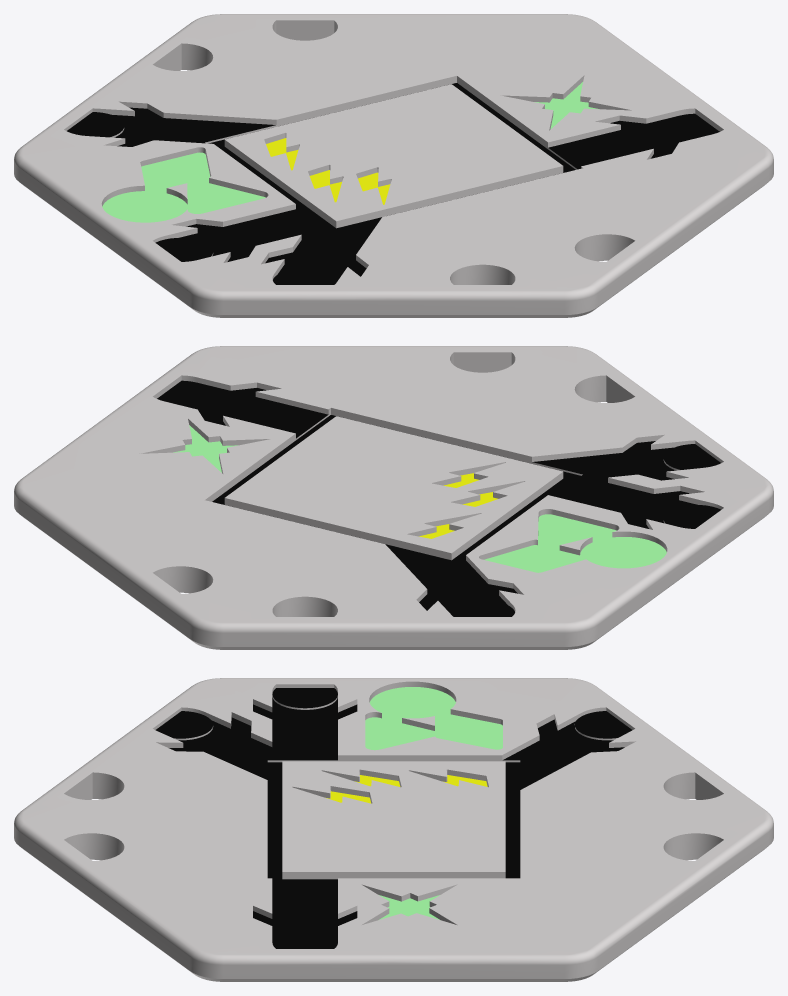
The model's file is tile-tesseract-factory.glb.
The picture shows the model from 3 angles, top to bottom: view 1: azimuth 30°, elevation 25°; view 2: azimuth 150°, elevation 25°; view 3: azimuth 270°, elevation 25°; orthographic projection.
Visible parts, largest first — view 1: tile-tesseract-factory; view 2: tile-tesseract-factory; view 3: tile-tesseract-factory.
Boxes of the visible parts, x1,y1,x2,y2 form: tile-tesseract-factory: [14, 14, 773, 317]; tile-tesseract-factory: [14, 346, 773, 649]; tile-tesseract-factory: [14, 678, 773, 981].
Size of the model in its own units: 68.85 by 3 by 78.26.
